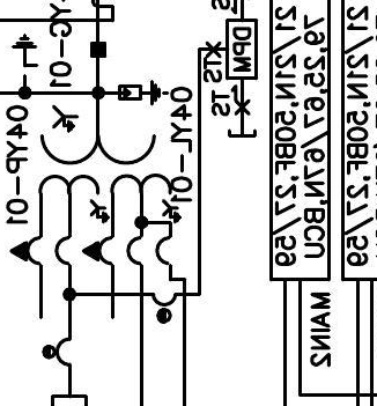115_gs: (10, 32, 40, 79)
115_la: (118, 78, 170, 107)
115_vt_3p: (9, 103, 182, 267)
DPM: (225, 18, 259, 80)
